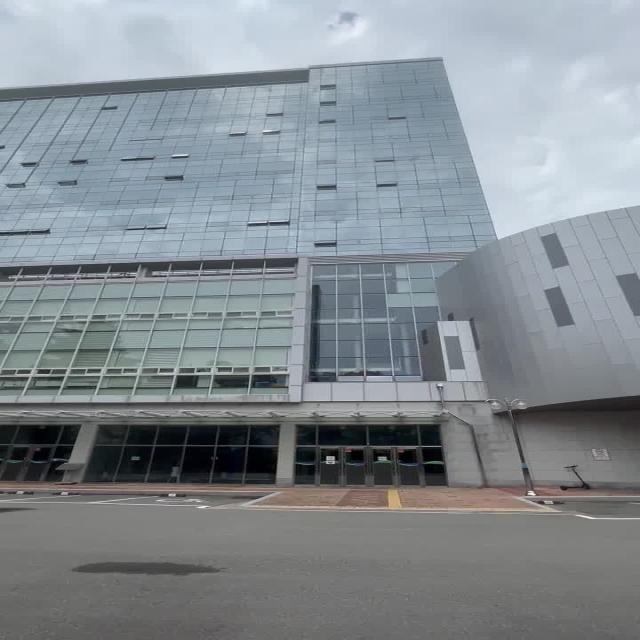building: (14, 49, 487, 483)
